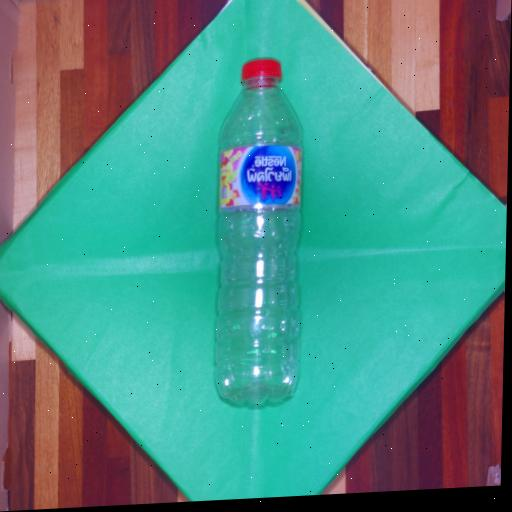bottle: (199, 35, 326, 425)
